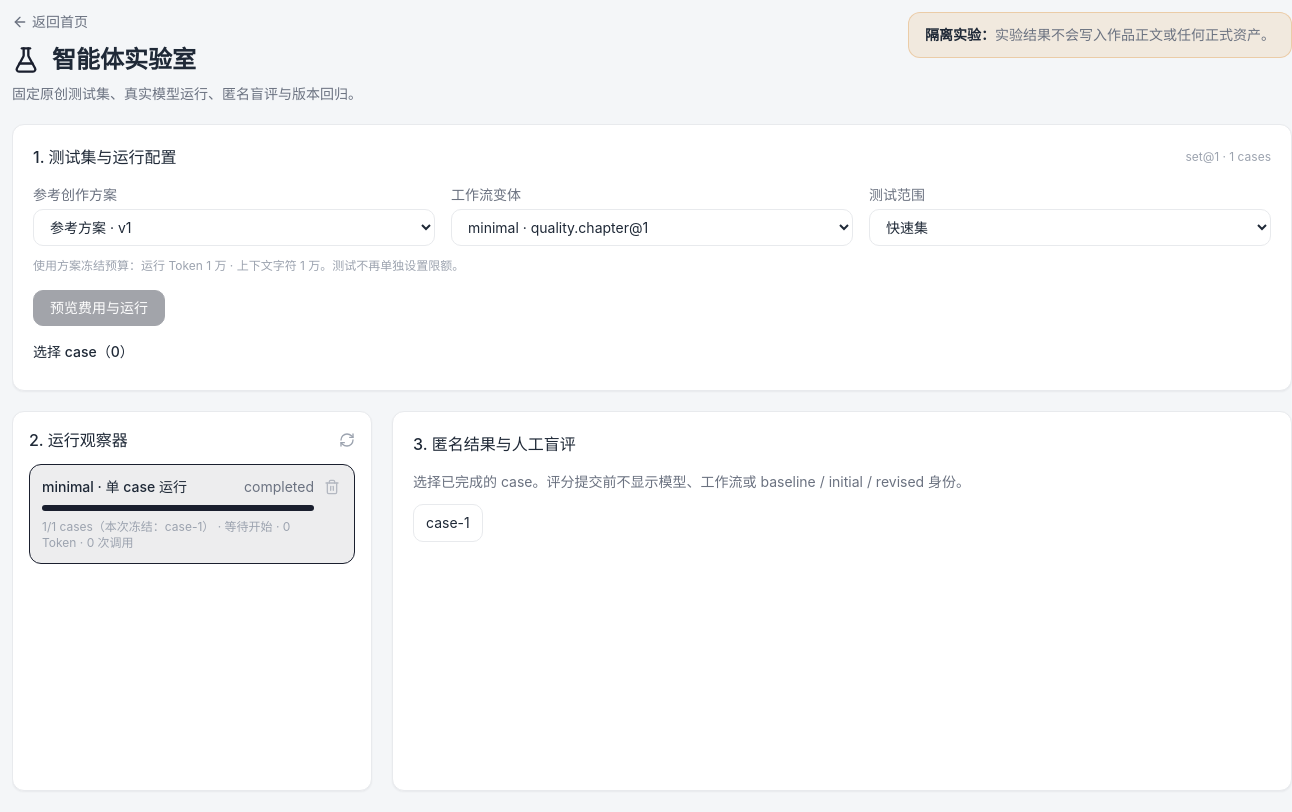
Test: 智能体实验室盲评 › 评分前不泄露身份，整组提交后才揭示来源，并明确不修改正式内容
This screenshot has width=1292, height=812.
Expected: the text "隔离实验：实验结果不会写入作品正文或任何正式资产。" is shown, [908,12,1291,58]
Click the button "case-1": (448, 523) [413,504,483,542]
(page scrolled)
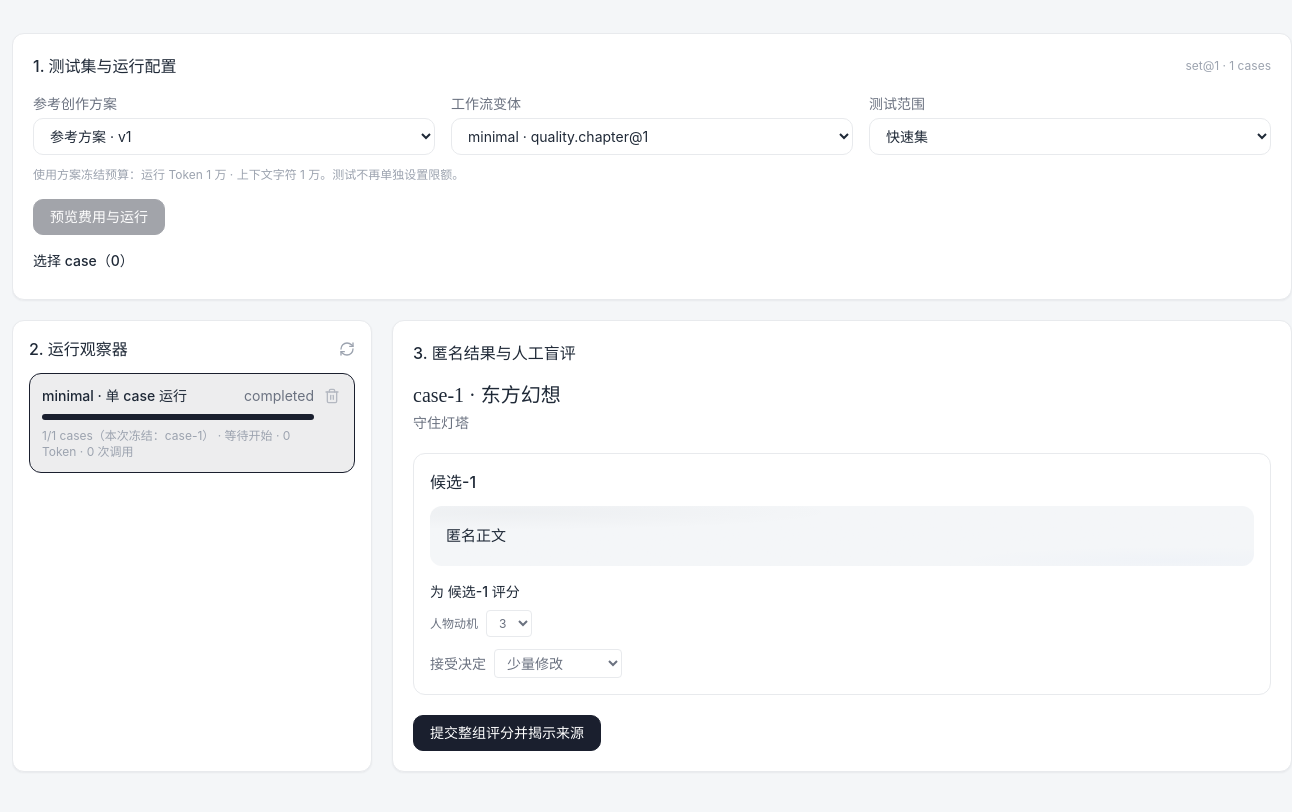
Expected: the text "匿名正文" is shown, [430,506,1254,566]
Expected: the text "revised" is gone
Click the button "提交整组评分并揭示来源": (507, 733) [413,715,601,751]
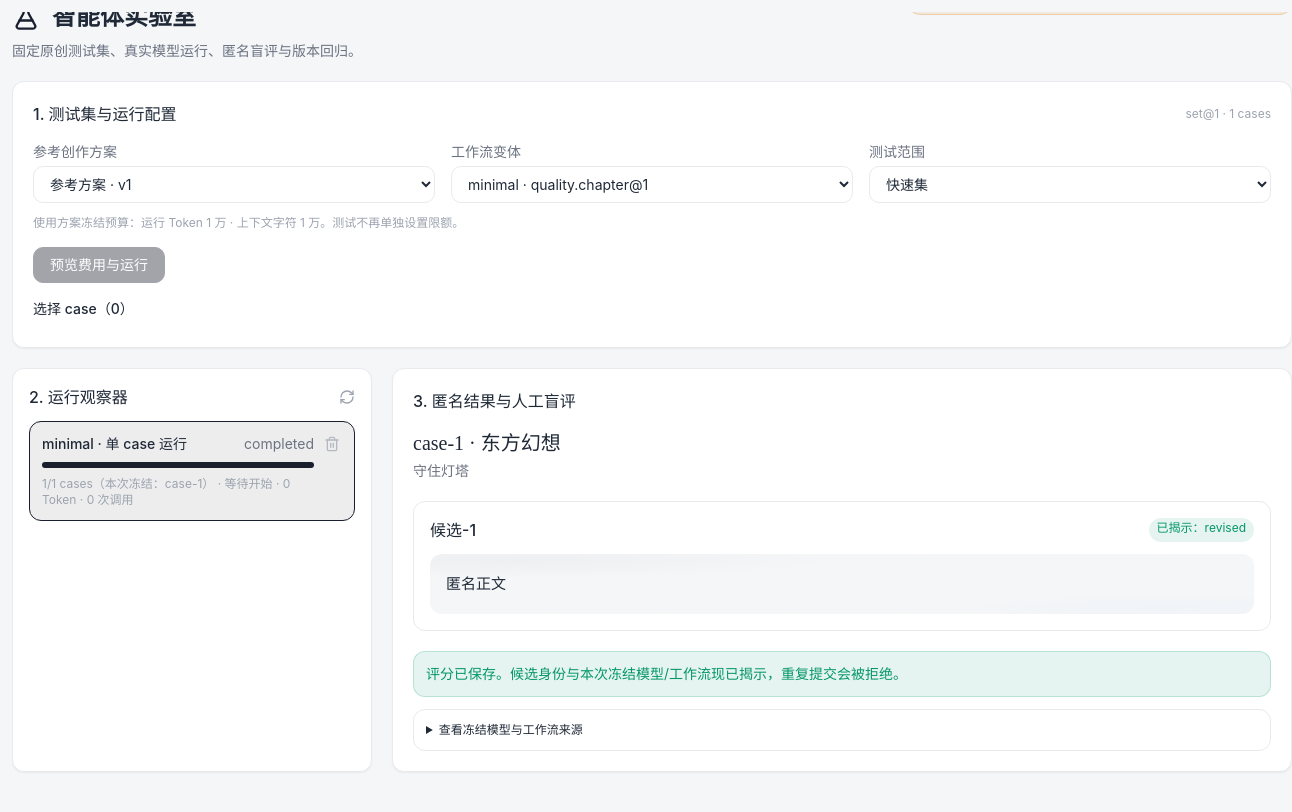
Expected: the text "已揭示：revised" is shown, [1149,518,1254,542]
Expected: the text "评分已保存。候选身份与本次冻结模型/工作流现已揭示，重复提交会被拒绝。" is shown, [413,651,1271,697]
